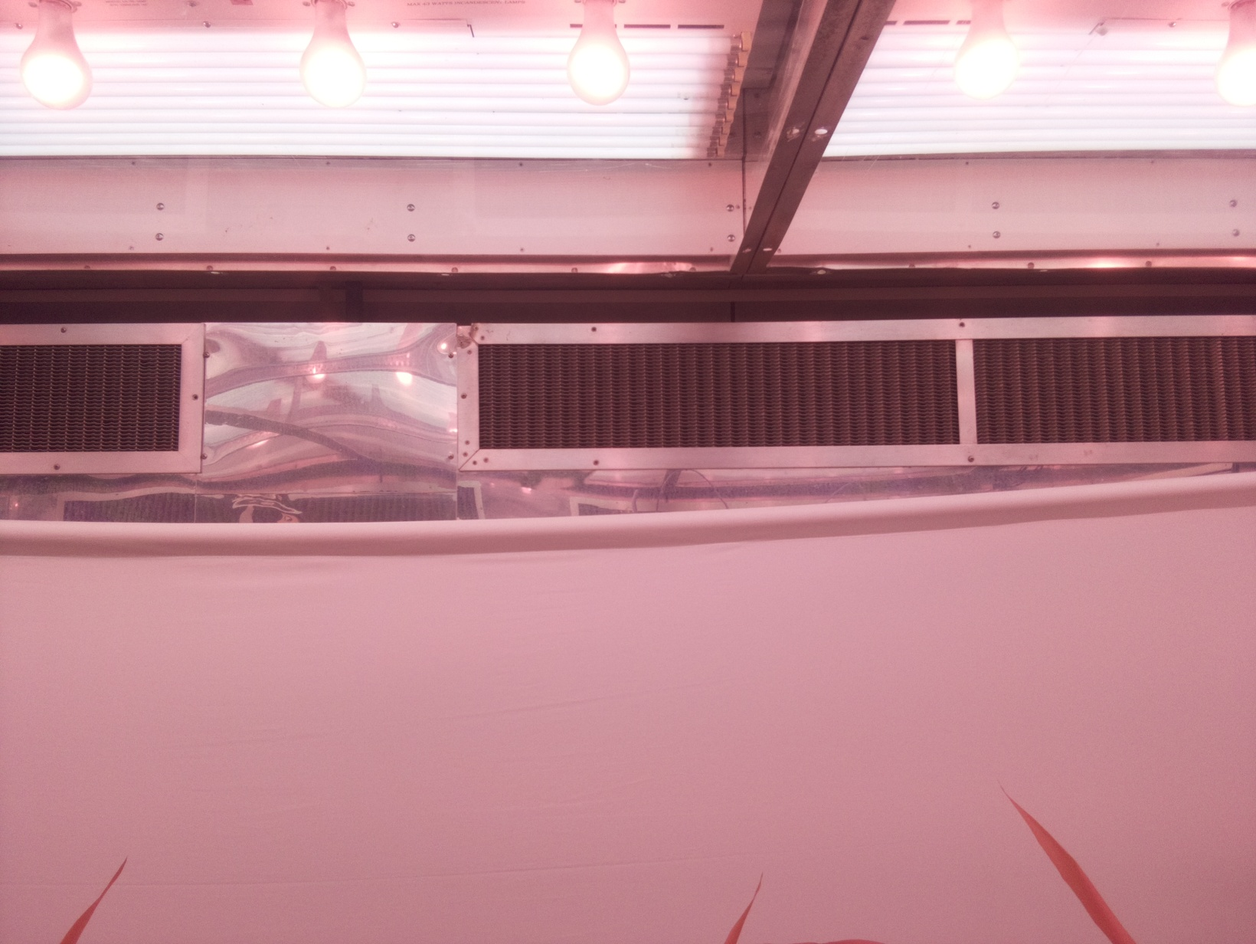maize: (995, 780, 1138, 944), (721, 870, 892, 944), (59, 854, 129, 944)
